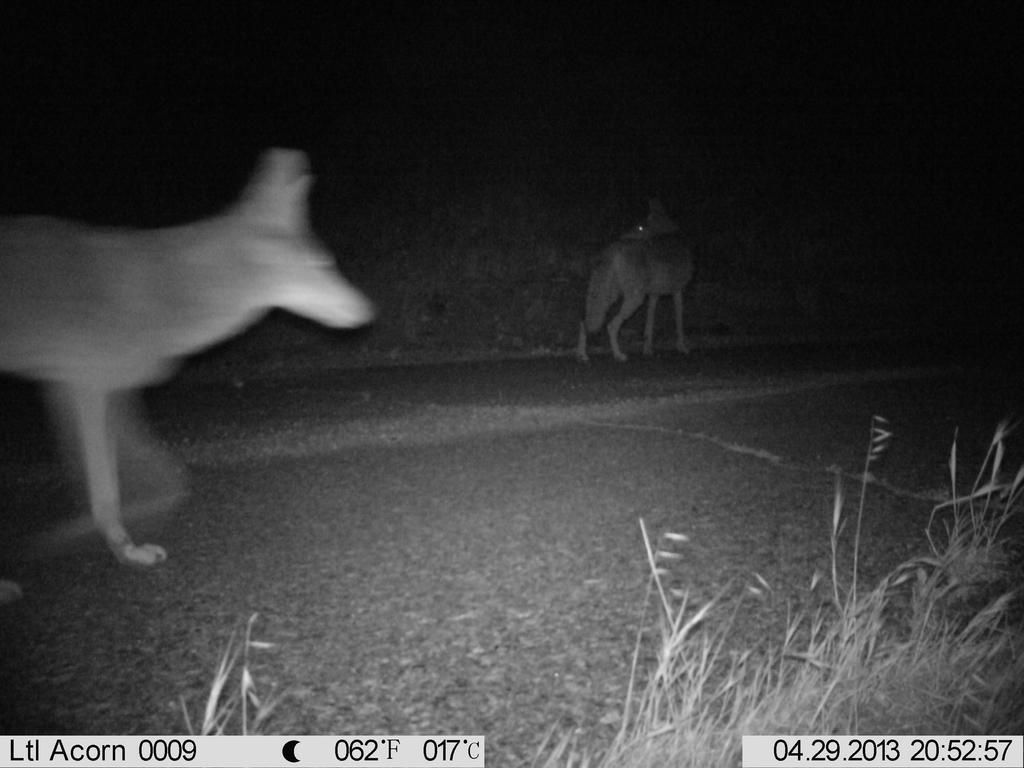coyote: (3, 139, 386, 609), (569, 195, 702, 365)
